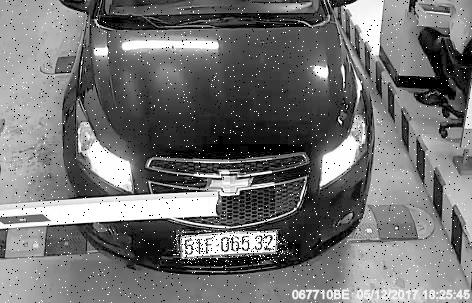License-plate: (175, 232, 292, 265)
